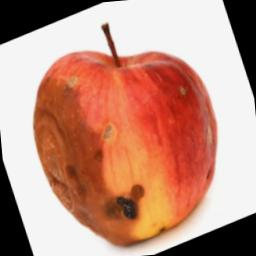Apple Rotten: (11, 0, 234, 256)
